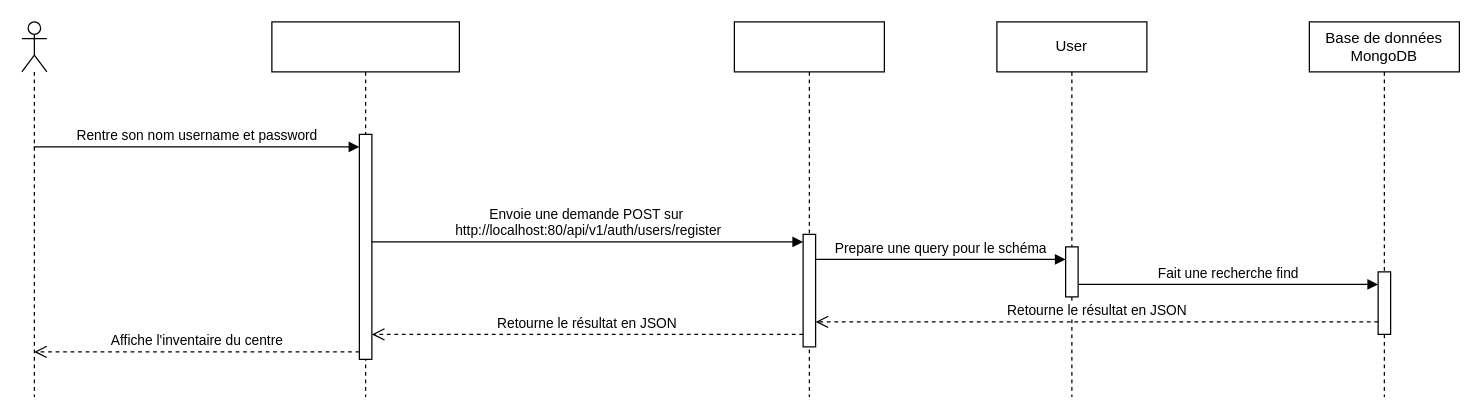
Image size: 1481x419. Some labels were removed from this diagram. The box of each missing label's shape, as (x1, y1, x2, y2) in pixels:
Frontend Django Python: (271, 21, 459, 397)
KrakenD - Service Auth: (733, 21, 884, 397)
